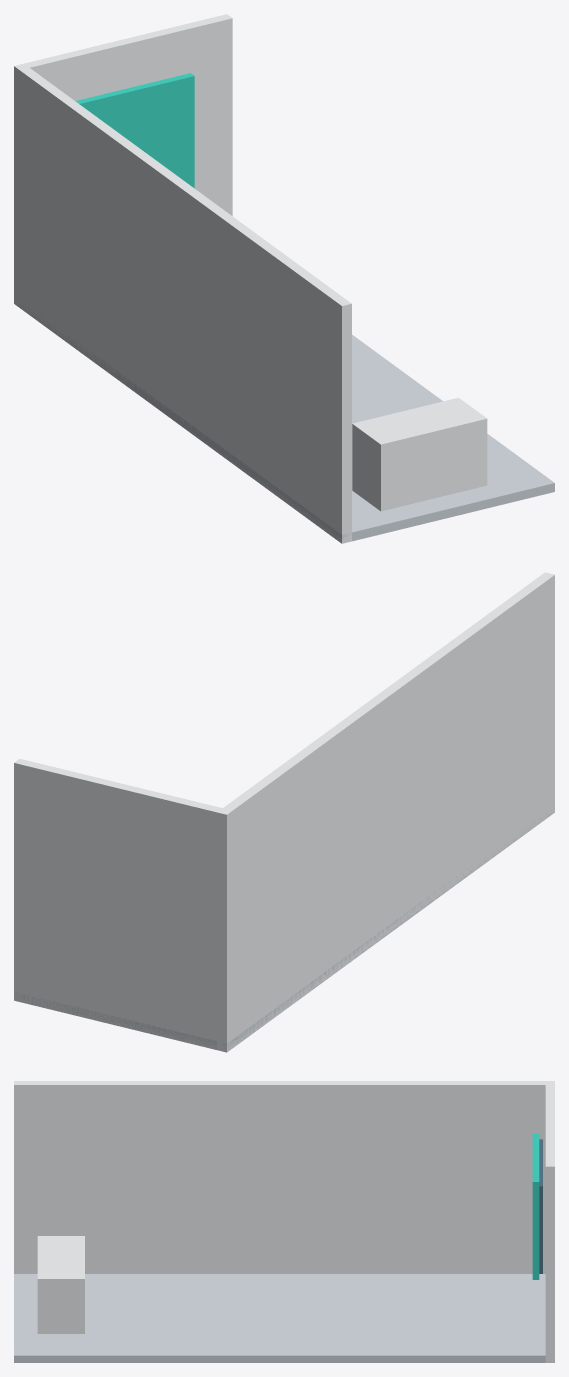
The picture shows the model from 3 angles, top to bottom: view 1: azimuth 30°, elevation 25°; view 2: azimuth 150°, elevation 25°; view 3: azimuth 270°, elevation 25°; orthographic projection. The views are drawn at different scales.
Parts seen in each view (by area): view 1: Exhibition Booth Concept; view 2: Exhibition Booth Concept; view 3: Exhibition Booth Concept.
Boxes of the visible parts, x1,y1,x2,y2 form: Exhibition Booth Concept: [14, 14, 554, 543]; Exhibition Booth Concept: [14, 572, 554, 1052]; Exhibition Booth Concept: [14, 1081, 554, 1362].
Bounding box in the file's own units: 3 × 3.2 × 8.
